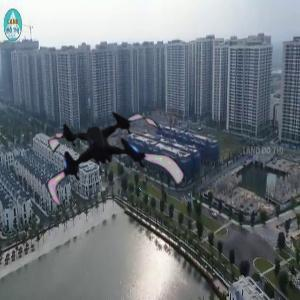drone: (36, 92, 171, 227)
